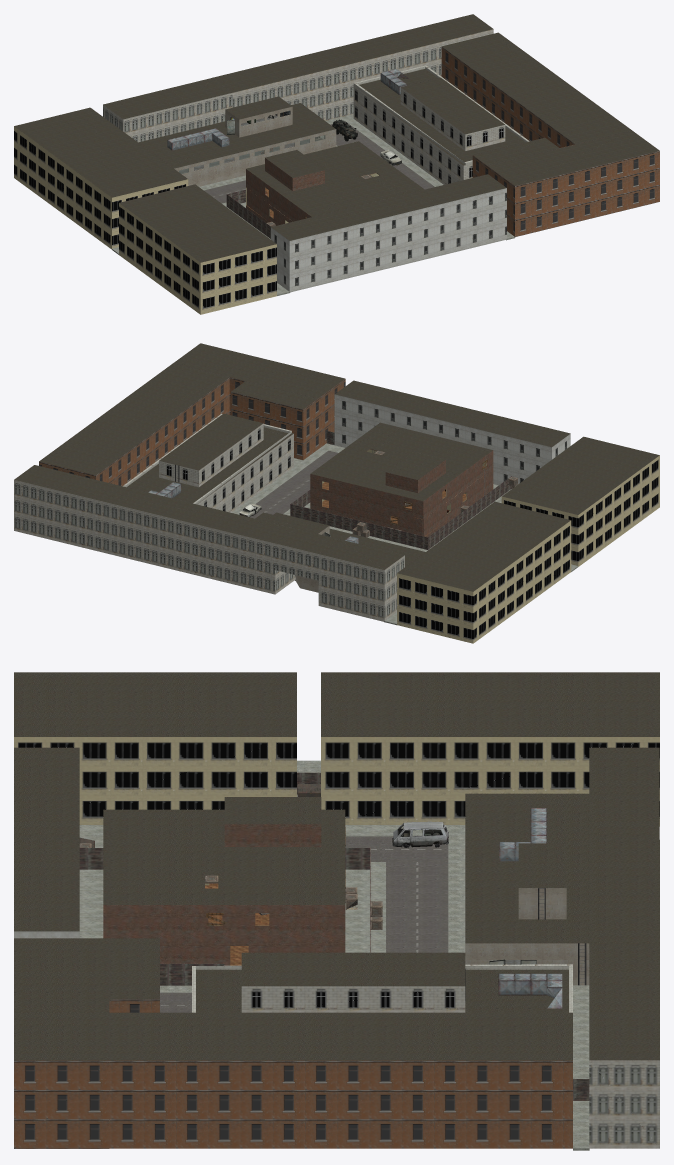
Rendered from map.glb.
3 renders of one model, top to bottom at view 1: azimuth 30°, elevation 25°; view 2: azimuth 150°, elevation 25°; view 3: azimuth 270°, elevation 25°, orthographic. The views are drawn at different scales.
Parts seen in each view (by area): view 1: Mesh_12; view 2: Mesh_12, Mesh_0; view 3: Mesh_12, Mesh_0, Mesh_26.
Part boxes in pixels (x1,y1,x2,y2): Mesh_12: (14,14,659,314); Mesh_12: (14,343,659,643); Mesh_0: (175,444,518,537); Mesh_12: (14,672,659,1150); Mesh_0: (79,827,586,1000); Mesh_26: (392,821,448,847).
Bounding box in the file's own units: 58.3 × 6.72 × 41.02.
Materials: 57 (57 with a texture image).
